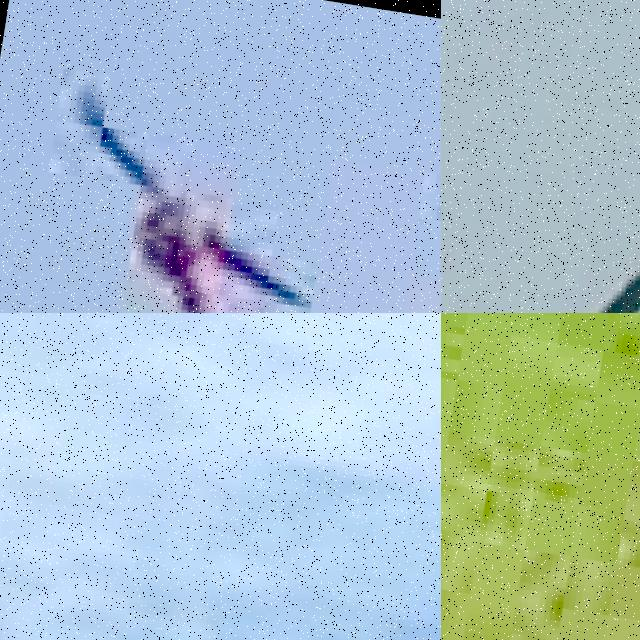0: (0, 0, 441, 313)
drone: (441, 0, 640, 313)
